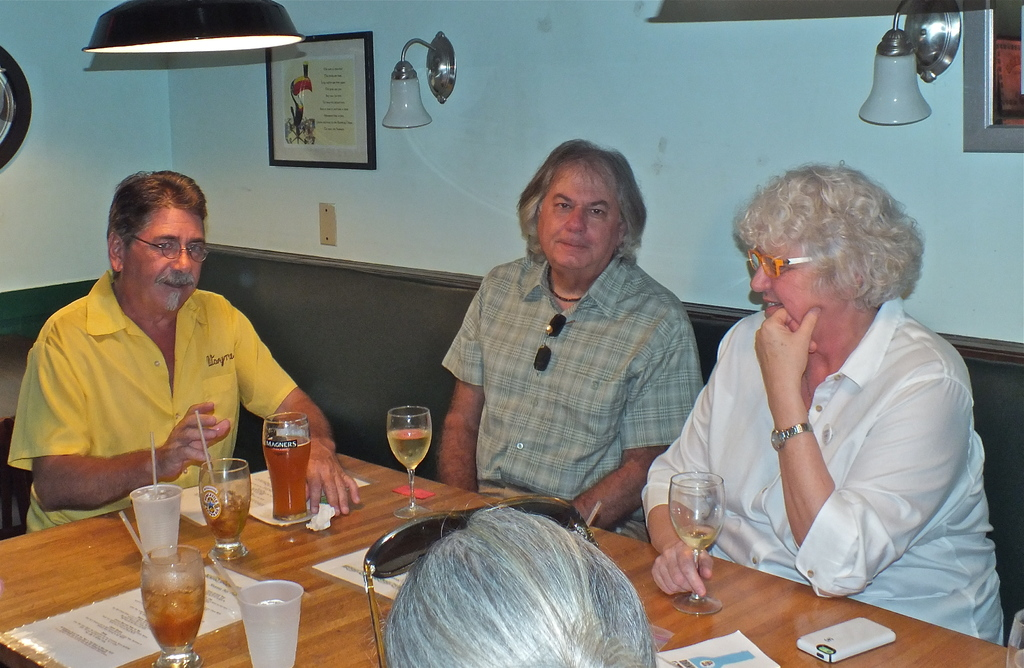Beer: (663, 470, 725, 617), (130, 546, 204, 667), (190, 454, 256, 559), (382, 400, 436, 516), (256, 409, 309, 523)
